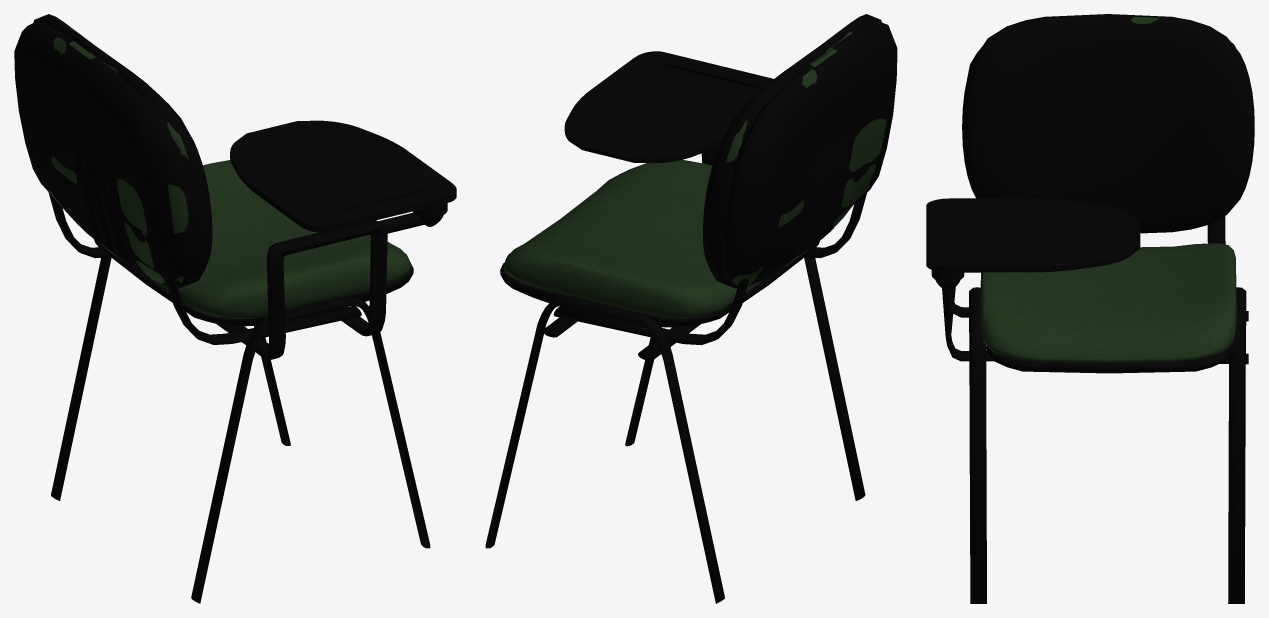
The model's file is chair.fbx.
The picture shows the model from 3 angles, left to right: view 1: azimuth 30°, elevation 25°; view 2: azimuth 150°, elevation 25°; view 3: azimuth 270°, elevation 25°; orthographic projection. The views are drawn at different scales.
Visible parts, largest first — view 1: zaplecnik, stolik, pufka, Nogi, utrzymywacz zaplecnika.001, Naplecnik, utrzymywacz zaplecnika, podpufka, Cylinder; view 2: zaplecnik, pufka, stolik, Nogi, Naplecnik, utrzymywacz zaplecnika, podpufka, utrzymywacz zaplecnika.001; view 3: Naplecnik, pufka, stolik, Nogi, podpufka, utrzymywacz zaplecnika.001, Cylinder, utrzymywacz zaplecnika.
Boxes of the visible parts, left/top/right/bottom form: zaplecnik: left=14, top=22, right=195, bottom=285; stolik: left=230, top=120, right=456, bottom=232; pufka: left=151, top=160, right=411, bottom=318; Nogi: left=51, top=257, right=430, bottom=603; utrzymywacz zaplecnika.001: left=216, top=220, right=387, bottom=359; Naplecnik: left=33, top=14, right=212, bottom=287; utrzymywacz zaplecnika: left=48, top=192, right=361, bottom=344; podpufka: left=94, top=239, right=413, bottom=326; Cylinder: left=379, top=203, right=447, bottom=233; zaplecnik: left=721, top=22, right=897, bottom=285; pufka: left=503, top=159, right=763, bottom=318; stolik: left=564, top=51, right=773, bottom=163; Nogi: left=485, top=257, right=865, bottom=603; Naplecnik: left=702, top=14, right=881, bottom=288; utrzymywacz zaplecnika: left=553, top=193, right=866, bottom=345; podpufka: left=500, top=241, right=819, bottom=327; utrzymywacz zaplecnika.001: left=542, top=146, right=718, bottom=360; Naplecnik: left=962, top=14, right=1254, bottom=233; pufka: left=980, top=243, right=1236, bottom=363; stolik: left=926, top=198, right=1140, bottom=272; Nogi: left=969, top=287, right=1246, bottom=603; podpufka: left=986, top=344, right=1232, bottom=373; utrzymywacz zaplecnika.001: left=942, top=287, right=1248, bottom=364; Cylinder: left=931, top=270, right=964, bottom=290; utrzymywacz zaplecnika: left=989, top=216, right=1225, bottom=357.
Size of the model in its own units: 514 by 867 by 546.
